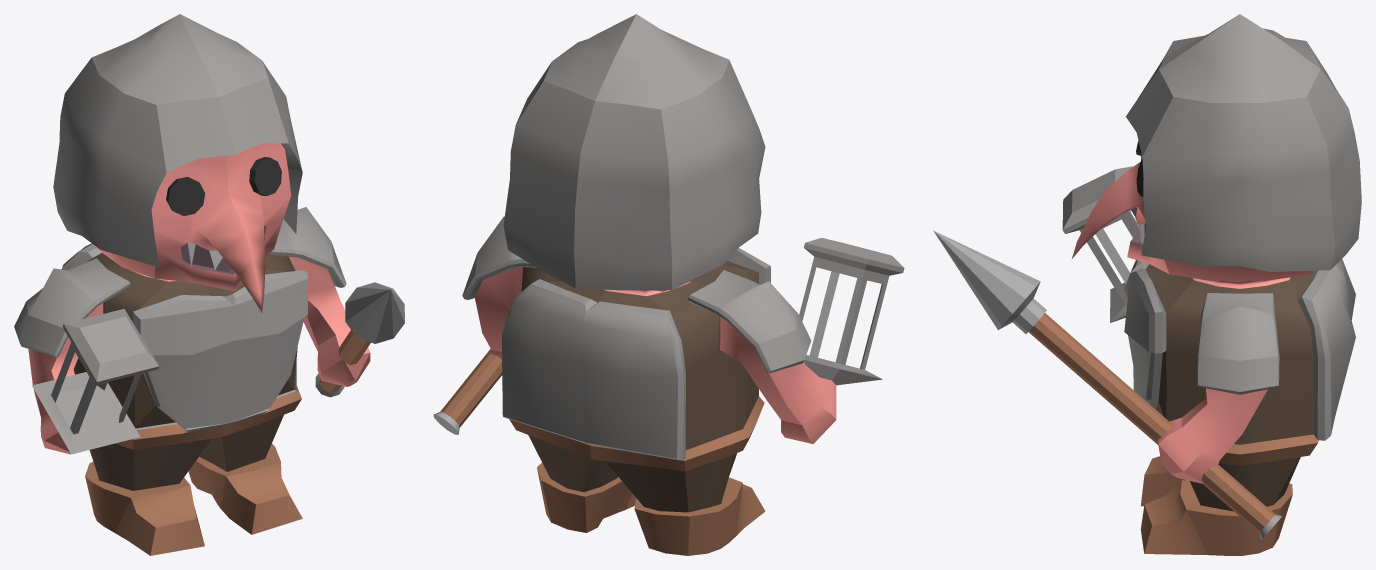
File: Guard.fbx
3 renders of one model, left to right at view 1: azimuth 30°, elevation 25°; view 2: azimuth 150°, elevation 25°; view 3: azimuth 270°, elevation 25°, orthographic. The views are drawn at different scales.
Parts seen in each view (by area): view 1: eye3; view 2: eye3; view 3: eye3.
Boxes of the visible parts, <box> form: eye3: <box>14,14,404,555</box>; eye3: <box>433,14,904,555</box>; eye3: <box>933,14,1361,555</box>.
Bounding box in the file's own units: 172 × 231 × 178.
